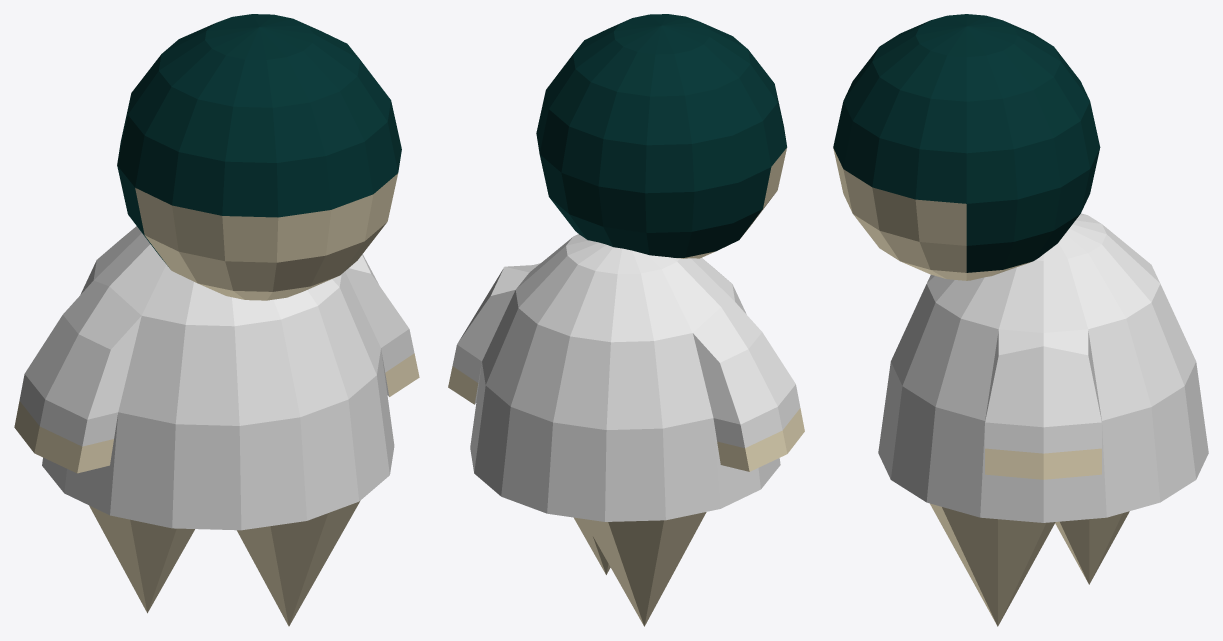
The model's file is human1.glb.
The picture shows the model from 3 angles, left to right: view 1: azimuth 30°, elevation 25°; view 2: azimuth 150°, elevation 25°; view 3: azimuth 270°, elevation 25°; orthographic projection. The views are drawn at different scales.
Parts seen in each view (by area): view 1: Sphere.001, Sphere, PlayerLegLeft, PlayerLegRight; view 2: Sphere.001, Sphere, PlayerLegRight, PlayerLegLeft; view 3: Sphere.001, Sphere, PlayerLegLeft, PlayerLegRight.
Boxes of the visible parts, x1,y1,x2,y2 form: Sphere.001: (14,226,419,530); Sphere: (117,14,401,300); PlayerLegLeft: (237,501,359,626); PlayerLegRight: (89,505,194,613); Sphere.001: (448,234,804,521); Sphere: (536,14,787,258); PlayerLegRight: (583,512,706,626); PlayerLegLeft: (574,517,610,574); Sphere.001: (878,213,1208,522); Sphere: (833,14,1100,280); PlayerLegLeft: (930,503,1055,626); PlayerLegRight: (1055,511,1129,584).
Size of the model in its own units: 0.8587 by 1.4 by 0.8222.
